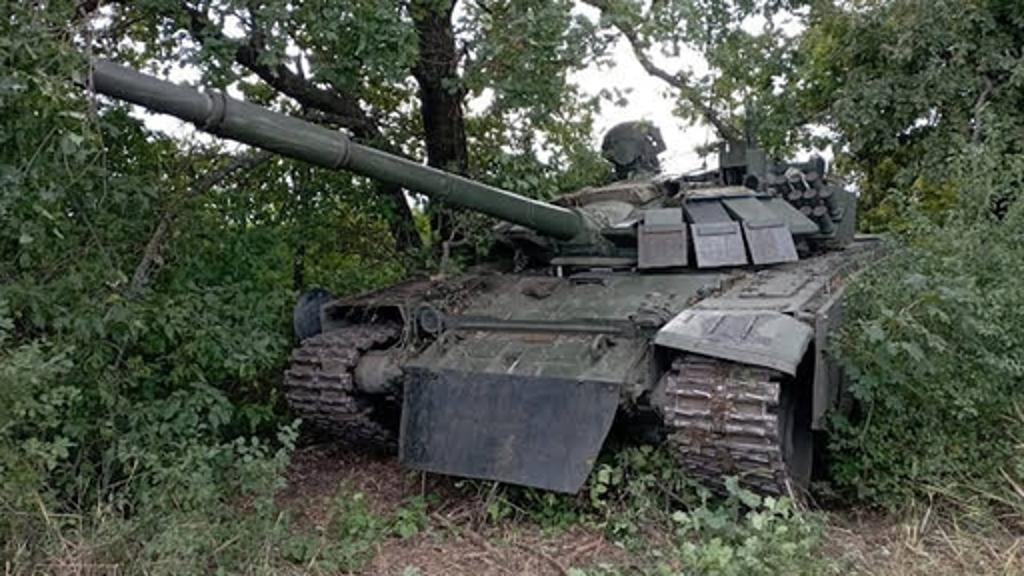TANK: (76, 46, 922, 534)
